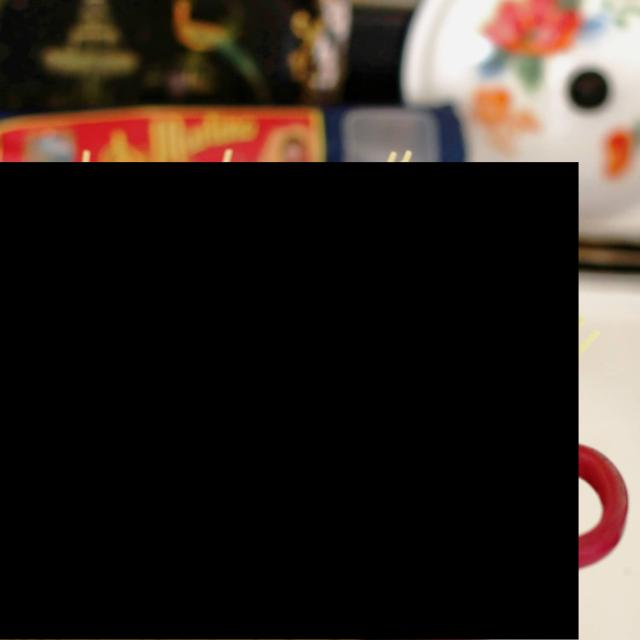Thukpa_Noodles: (0, 162, 579, 640)
